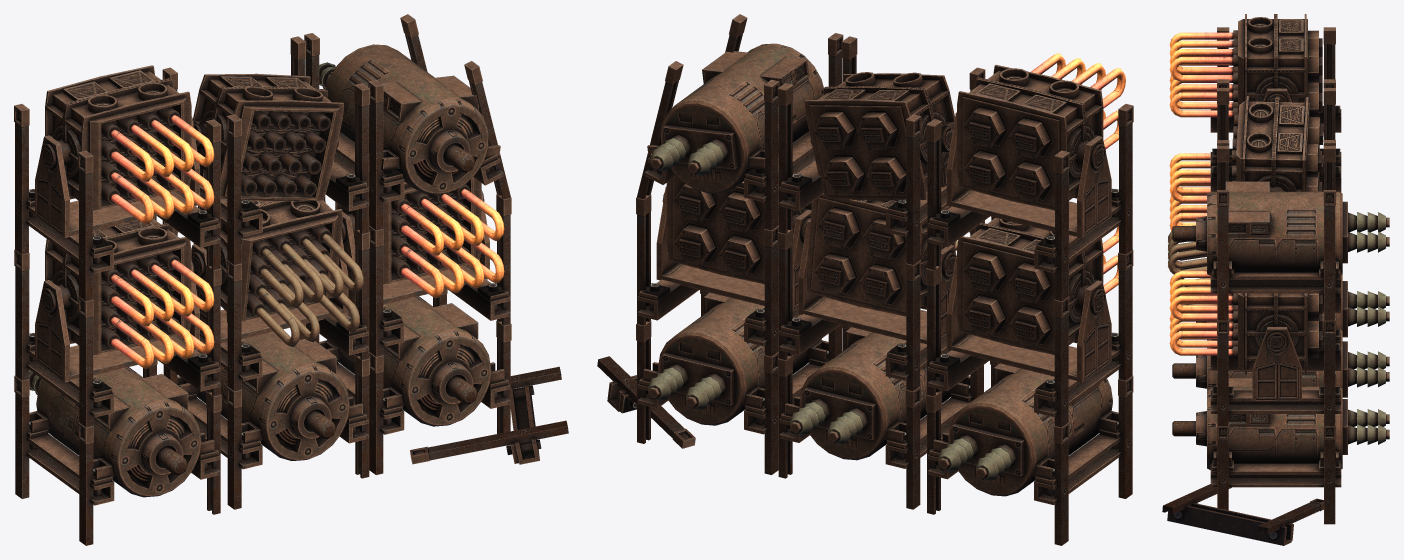
The model's file is corroded_machinery.glb.
3 renders of one model, left to right at view 1: azimuth 30°, elevation 25°; view 2: azimuth 150°, elevation 25°; view 3: azimuth 270°, elevation 25°, orthographic. The views are drawn at different scales.
Visible parts, largest first — view 1: lowpoly004, Box005, Box002, lowpoly003; view 2: lowpoly004, Box005, Box002, lowpoly003; view 3: lowpoly004, Box005, Box002, lowpoly003.
Boxes of the visible parts, box(x1,y1,x2,y2) form: lowpoly004: box(14, 14, 568, 545); Box005: box(35, 65, 504, 382); Box002: box(191, 73, 363, 346); lowpoly003: box(165, 223, 368, 509); lowpoly004: box(597, 14, 1133, 545); Box005: box(656, 53, 1125, 383); Box002: box(798, 72, 968, 344); lowpoly003: box(777, 221, 983, 509); lowpoly004: box(1162, 27, 1389, 545); Box005: box(1169, 14, 1322, 400); Box002: box(1168, 96, 1323, 305); lowpoly003: box(1174, 293, 1389, 397).
Size of the model in its own units: 5.98 by 4.68 by 2.78.
Materials: 3 (3 with a texture image).
